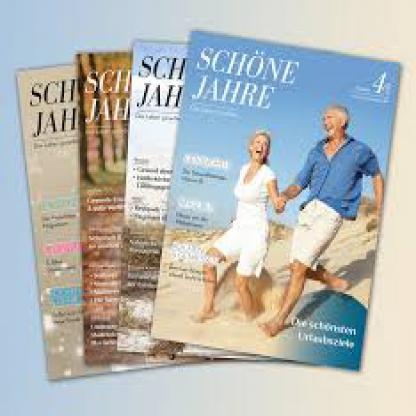paper: (148, 29, 398, 366), (15, 62, 204, 379), (114, 39, 297, 360), (74, 50, 228, 364)
